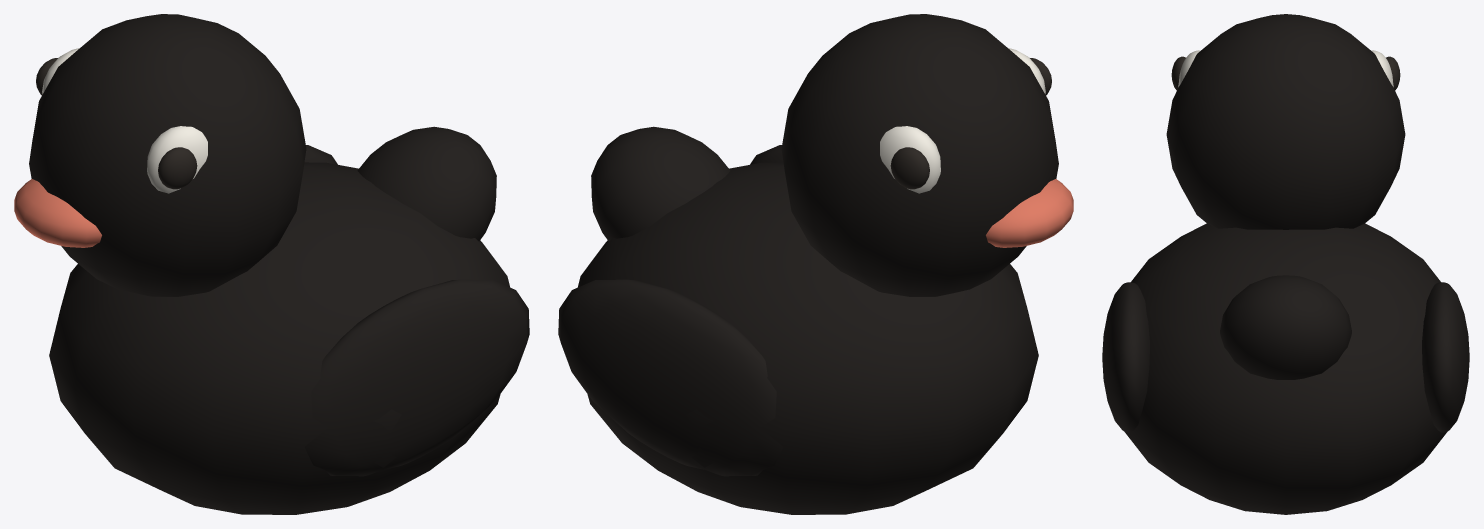
Rendered from hh_cat_rubber_duck.glb.
3 views of the same model, side by side, from view 1: azimuth 30°, elevation 25°; view 2: azimuth 150°, elevation 25°; view 3: azimuth 270°, elevation 25° (orthographic). The views are drawn at different scales.
Visible parts, largest first — view 1: body, head, wing, tail, beak, eye, pupil; view 2: body, head, wing.001, tail, beak, eye.001, pupil.001; view 3: body, head, tail, wing, wing.001.
Boxes of the visible parts, box(x1,y1,x2,y2) form: body: box(49, 162, 510, 514); head: box(29, 14, 306, 296); wing: box(305, 279, 529, 476); tail: box(357, 126, 496, 241); beak: box(14, 179, 101, 247); eye: box(147, 126, 207, 193); pupil: box(158, 147, 197, 189); body: box(577, 162, 1038, 514); head: box(781, 14, 1058, 296); wing.001: box(558, 279, 782, 476); tail: box(591, 126, 730, 241); beak: box(986, 179, 1073, 247); eye.001: box(880, 126, 940, 193); pupil.001: box(890, 147, 929, 189); body: box(1124, 223, 1447, 514); head: box(1166, 14, 1405, 229); tail: box(1220, 275, 1351, 379); wing: box(1102, 282, 1149, 432); wing.001: box(1422, 282, 1469, 432).
Bounding box in the file's own units: 0.1 × 0.1 × 0.08.
